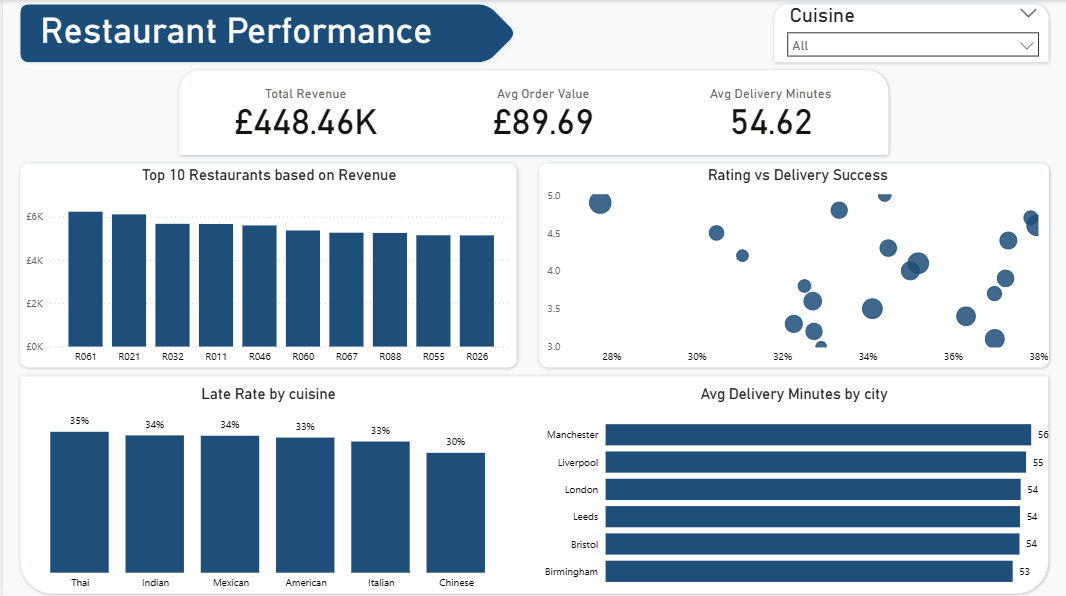

Layout of this report page (visuals, bound fields, positions):
{"tool":"powerbi","page":{"name":"Page 2","canvas":[1280,720],"ordinal":1},"visuals":[{"type":"shape","box":[206.9,79.8,864,112.2],"z":0},{"type":"shape","box":[16,192,608,256],"z":1000},{"type":"shape","box":[640,192,624,256],"z":2000},{"type":"shape","box":[16,448,1248,272],"z":3000},{"type":"cardVisual","fields":{"Data":["_Measures.Total Revenue"]},"box":[206.9,79.8,315,112.2],"z":4000},{"type":"cardVisual","fields":{"Data":["_Measures.Avg Order Value"]},"box":[522.2,80,256,112],"z":5000},{"type":"cardVisual","fields":{"Data":["_Measures.Avg Delivery Minutes"]},"box":[777.5,79.8,293.4,112.2],"z":6000},{"type":"scatterChart","title":"Rating vs Delivery Success","fields":{"X":["_Measures.Delivery Success Rate"],"Y":["restaurants.rating"],"Size":["CountNonNull(orders_medium.order_id)"]},"box":[650.7,200.2,613.5,247.4],"z":7000},{"type":"clusteredBarChart","fields":{"Category":["restaurants.city"],"Y":["_Measures.Avg Delivery Minutes"]},"box":[640,464,624,256],"z":8000},{"type":"columnChart","fields":{"Category":["restaurants.cuisine"],"Y":["_Measures.Late Rate"]},"box":[16,464,608,256],"z":9000},{"type":"shape","box":[15.7,0,607.8,80.1],"z":10000},{"type":"textbox","box":[40,7.2,539.2,64.4],"z":11000},{"type":"columnChart","title":"Top 10 Restaurants based on Revenue","fields":{"Category":["restaurants.restaurant_id"],"Y":["_Measures.Total Revenue"]},"box":[22.9,200.2,594.9,247.4],"z":12000},{"type":"shape","box":[923.9,0,340.4,80.1],"z":13000},{"type":"slicer","fields":{"Values":["restaurants.cuisine"]},"box":[933.9,0,323.2,80.1],"z":14000}]}

Visuals, with their boxes in screenshot pixels (x1, y1, x2, y2), scaled from the page's 1280x720 canvas onto the 1066x596 screenshot:
shape: locate(172, 66, 892, 159)
shape: locate(13, 159, 520, 371)
shape: locate(533, 159, 1053, 371)
shape: locate(13, 371, 1053, 595)
cardVisual - _Measures.Total Revenue: locate(172, 66, 435, 159)
cardVisual - _Measures.Avg Order Value: locate(435, 66, 648, 159)
cardVisual - _Measures.Avg Delivery Minutes: locate(648, 66, 892, 159)
"Rating vs Delivery Success" scatterChart: locate(542, 166, 1053, 371)
clusteredBarChart - restaurants.city x _Measures.Avg Delivery Minutes: locate(533, 384, 1053, 595)
columnChart - restaurants.cuisine x _Measures.Late Rate: locate(13, 384, 520, 595)
shape: locate(13, 0, 519, 66)
textbox: locate(33, 6, 482, 59)
"Top 10 Restaurants based on Revenue" columnChart: locate(19, 166, 515, 371)
shape: locate(769, 0, 1053, 66)
slicer - restaurants.cuisine: locate(778, 0, 1047, 66)
